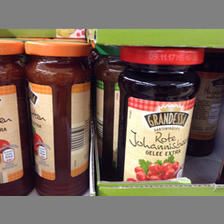jam: (116, 46, 206, 183), (24, 39, 93, 195), (1, 38, 24, 196)
